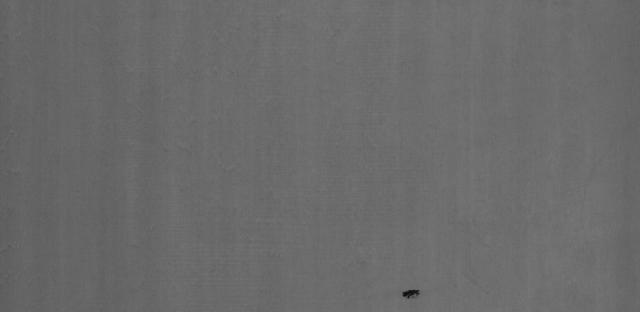inclusion: (394, 281, 434, 306)
